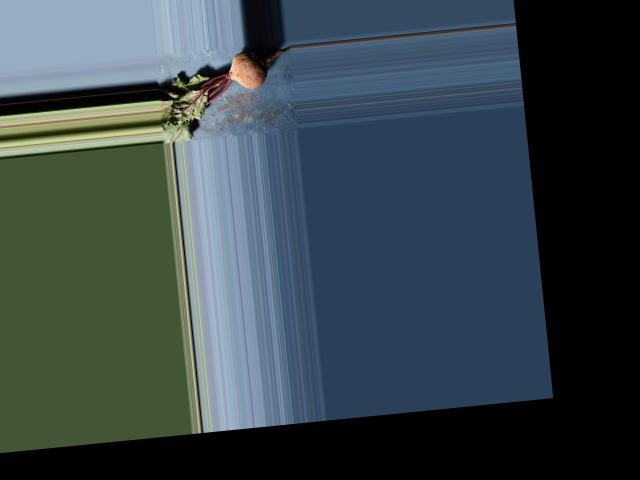beet: (153, 45, 298, 144)
